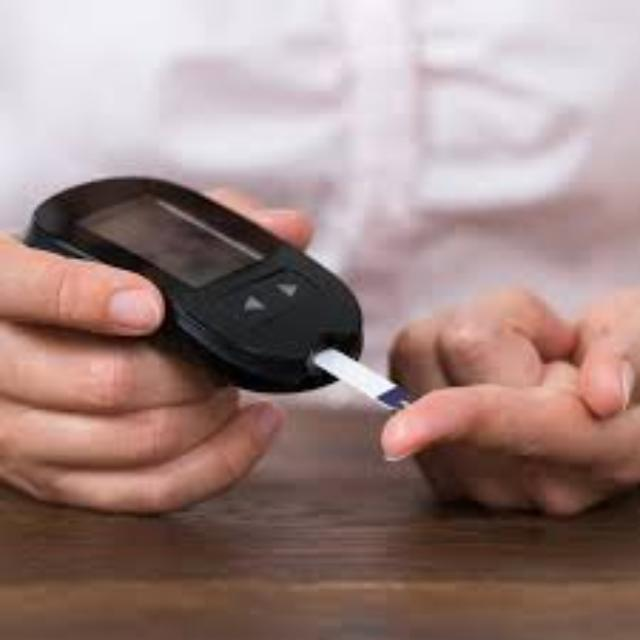Glucose-Meter: (28, 178, 406, 408)
